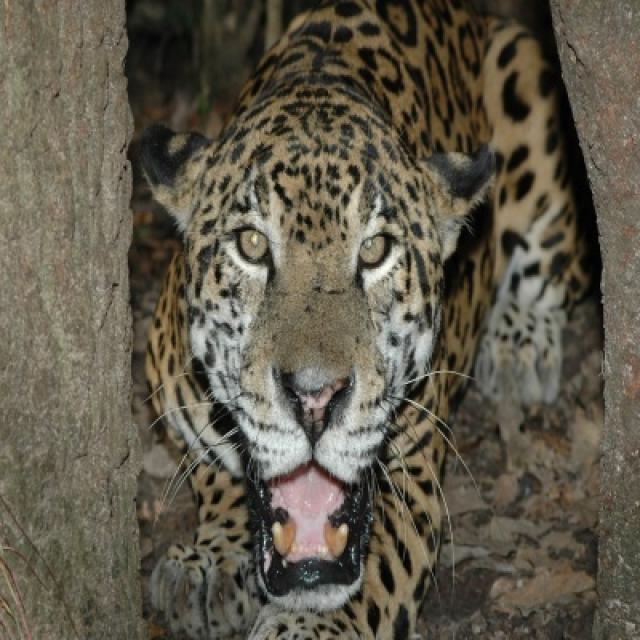Jaguar: (126, 0, 600, 638)
